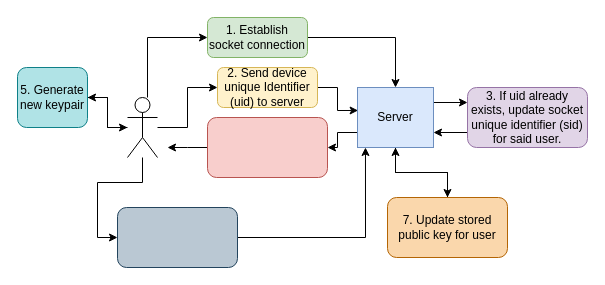
This 605x285 diagram has some shape labels left out. Each missing label, with the box of its shape:
4. Emit "existingUser" prompt to user: (206, 116, 328, 178)
6. Emit new public key to server: (116, 206, 238, 268)
Reconnecting User: (126, 96, 158, 158)
